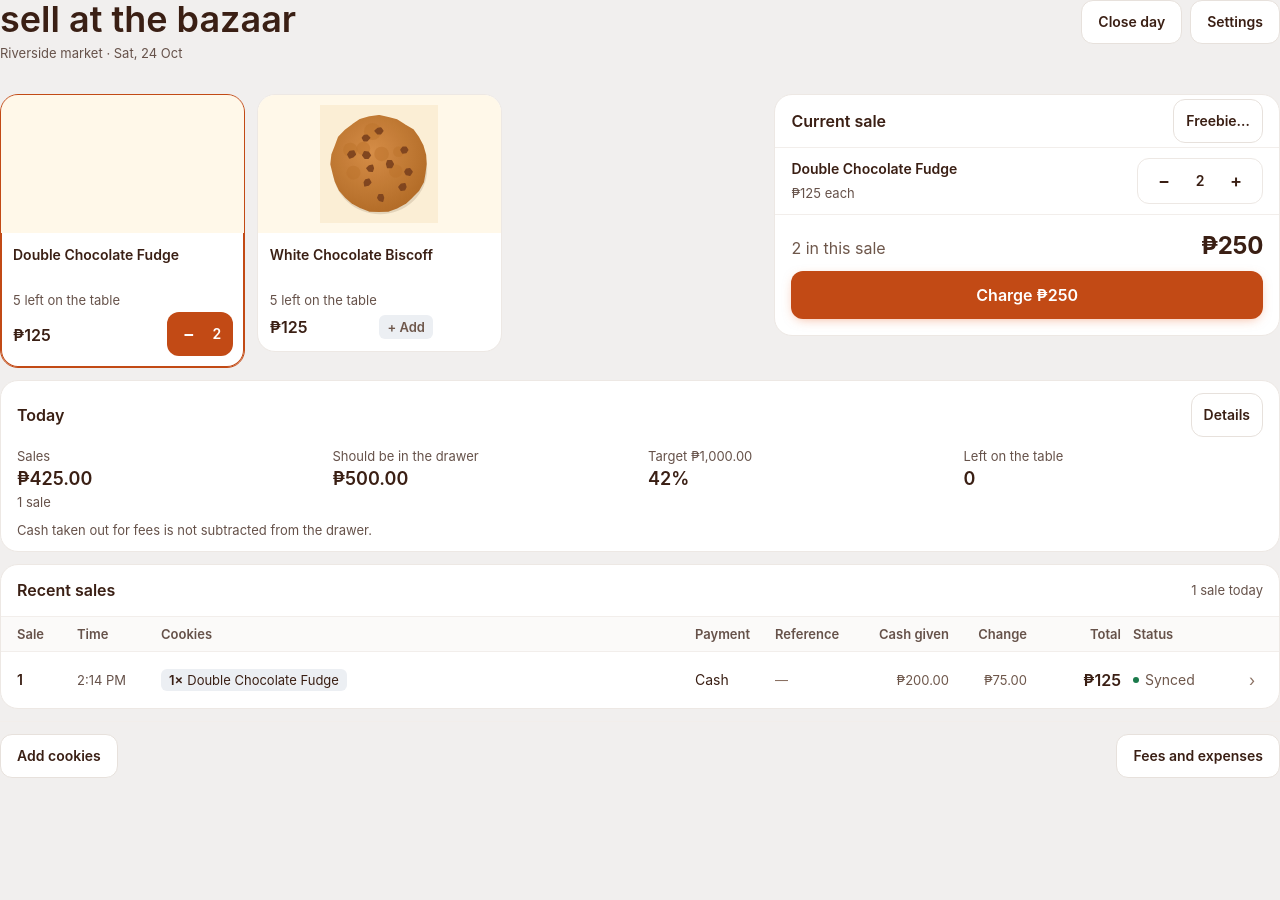
Test: the consolidated till calls the ported handlers › shows the trackers each once, with no status strip above the till
Check: the element named "Today's summary" shows "₱425.00", box [17, 468, 92, 489]
Check: the element named "Today's summary" shows "42%", box [648, 468, 689, 489]
Click the button "Details". click: (1227, 415)
box: [1190, 393, 1263, 437]
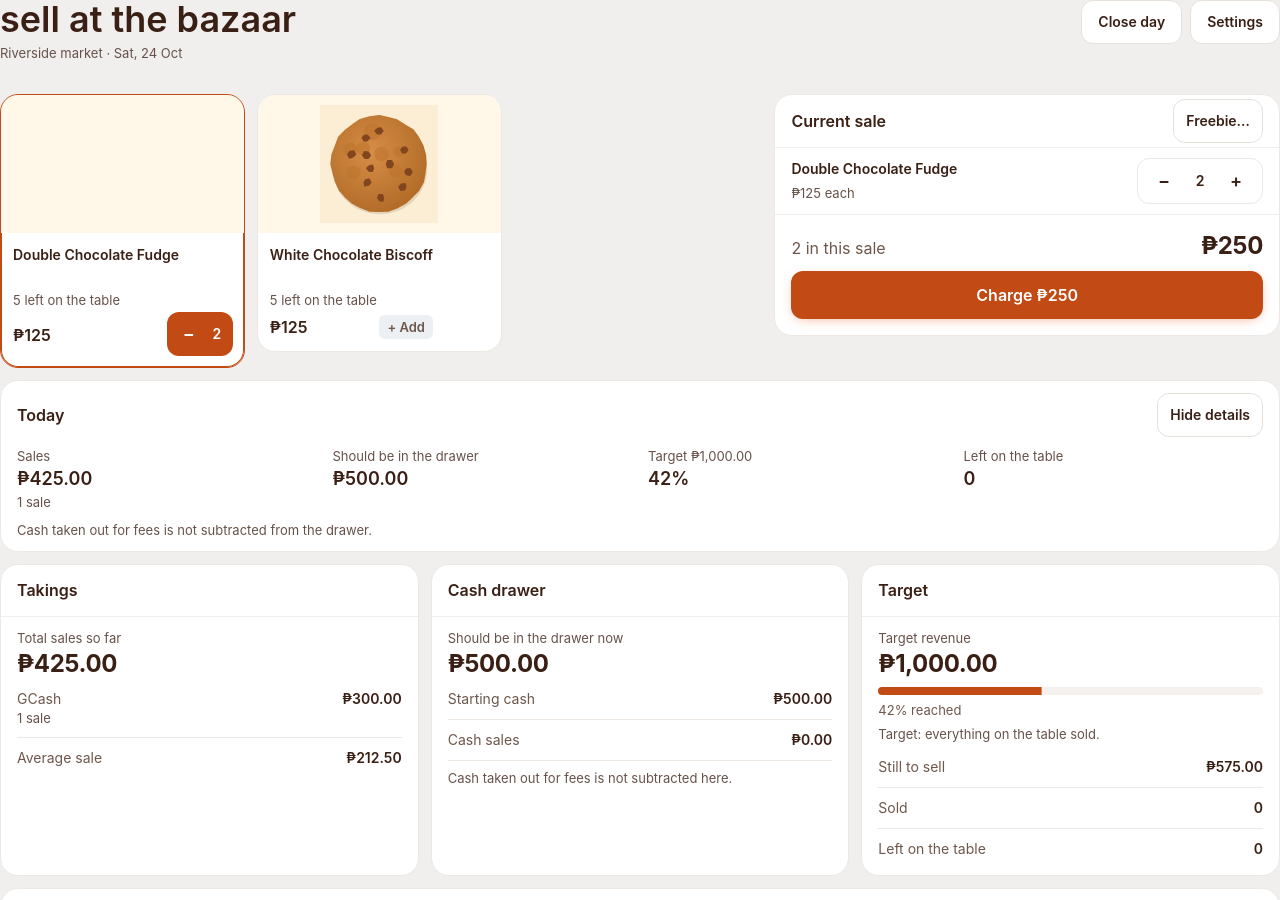
Check: the element "Takings" shows "₱425.00", box [17, 649, 117, 678]
Check: the element "Cash drawer" shows "₱500.00", box [448, 649, 549, 678]
Check: the element "Target" shows "₱1,000.00", box [878, 649, 997, 678]
